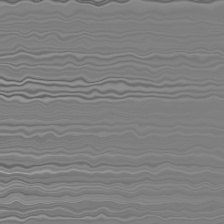cavities: (104, 54, 191, 222)
